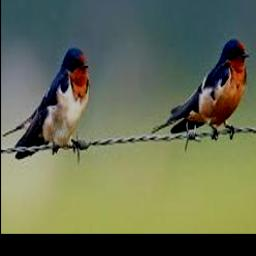Swallow: (152, 38, 252, 138), (3, 47, 91, 159)
